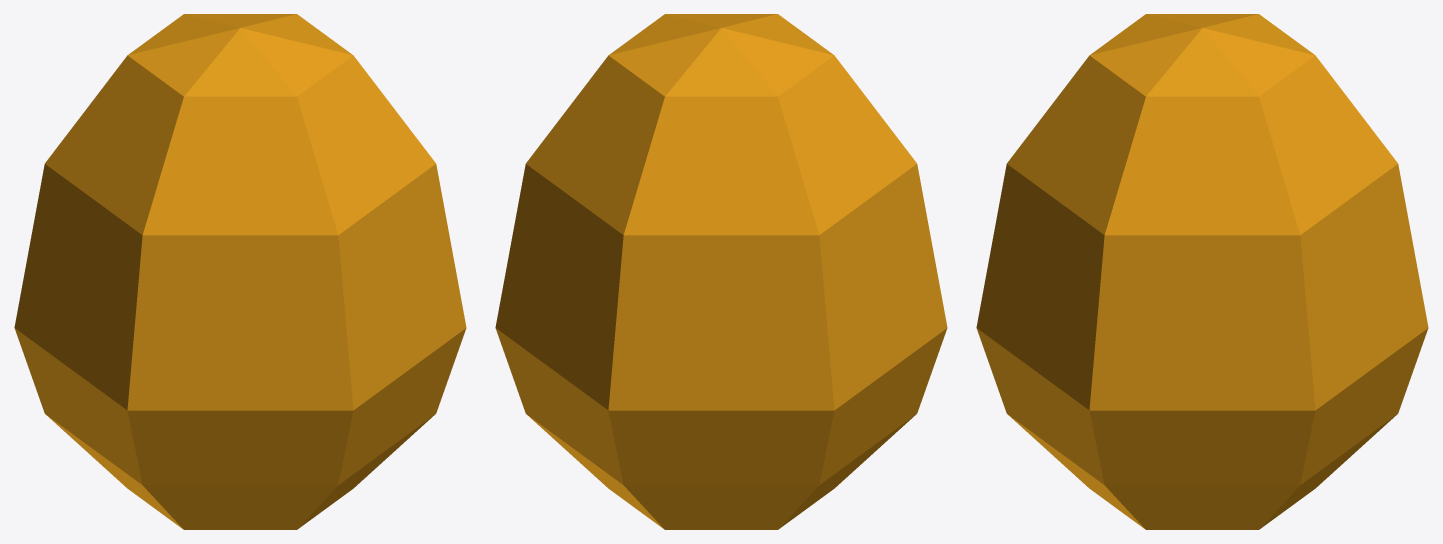
File: Egg.fbx
3 renders of one model, left to right at view 1: azimuth 30°, elevation 25°; view 2: azimuth 150°, elevation 25°; view 3: azimuth 270°, elevation 25°, orthographic.
Parts seen in each view (by area): view 1: Sphere; view 2: Sphere; view 3: Sphere.
Part boxes in pixels (x1,y1,x2,y2): Sphere: [14, 14, 466, 529]; Sphere: [495, 14, 947, 529]; Sphere: [976, 14, 1428, 529].
Bounding box in the file's own units: 173 × 235 × 200.
